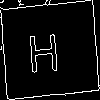H: (25, 24, 61, 73)
